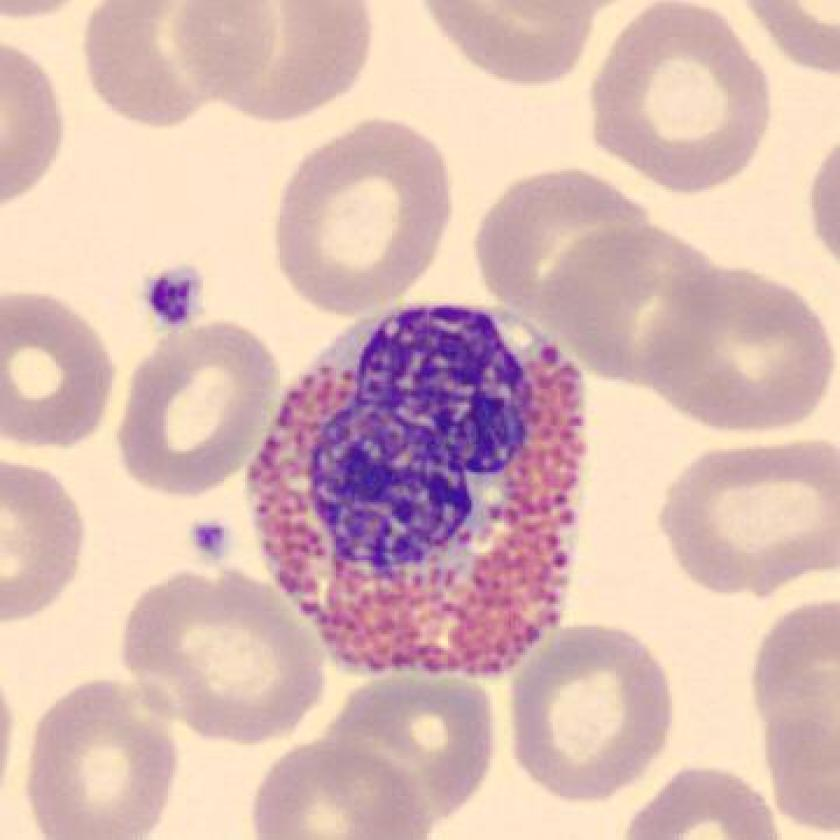eosinophil: (239, 291, 603, 689)
